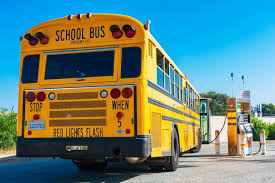bus: (16, 11, 203, 173)
